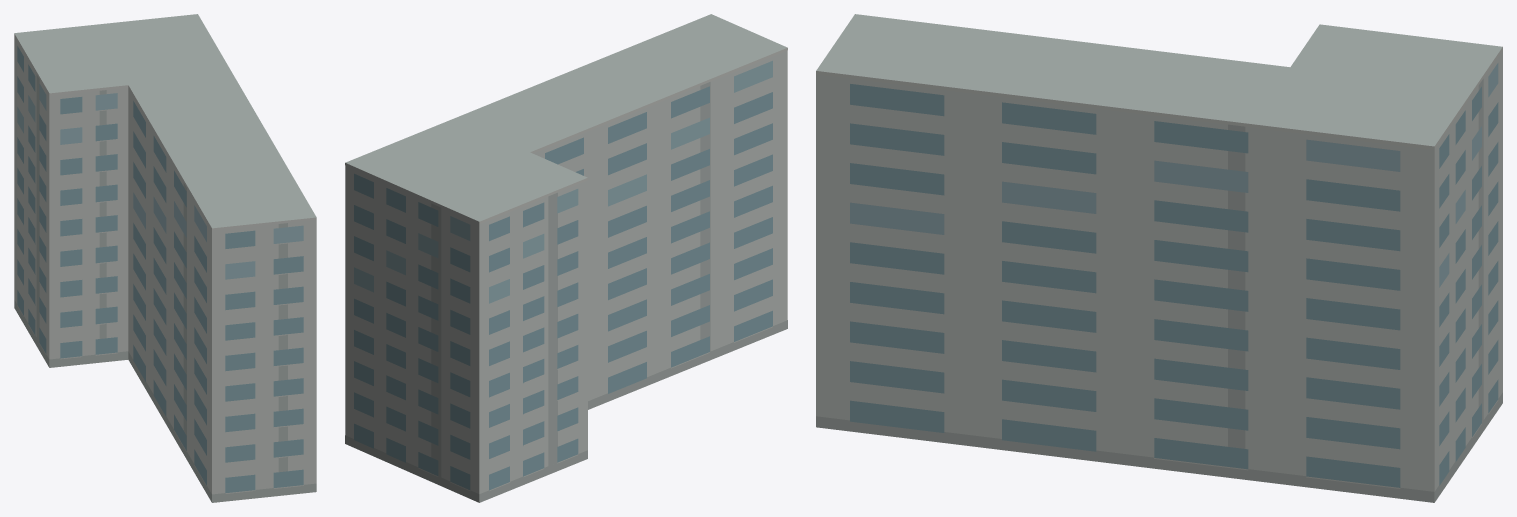
The model's file is residential-cdba598e-dc10-4383-96f3-6a5d5f99d2bc.glb.
The picture shows the model from 3 angles, left to right: view 1: azimuth 30°, elevation 25°; view 2: azimuth 150°, elevation 25°; view 3: azimuth 270°, elevation 25°; orthographic projection. The views are drawn at different scales.
Parts seen in each view (by area): view 1: residential-cdba598e-dc10-4383-96f3-6a5d5f99d2bc.tmp; view 2: residential-cdba598e-dc10-4383-96f3-6a5d5f99d2bc.tmp; view 3: residential-cdba598e-dc10-4383-96f3-6a5d5f99d2bc.tmp.
Part boxes in pixels (left/top/right/bottom): residential-cdba598e-dc10-4383-96f3-6a5d5f99d2bc.tmp: left=14, top=14, right=316, bottom=502; residential-cdba598e-dc10-4383-96f3-6a5d5f99d2bc.tmp: left=345, top=14, right=787, bottom=502; residential-cdba598e-dc10-4383-96f3-6a5d5f99d2bc.tmp: left=816, top=14, right=1502, bottom=502.
Size of the model in its own units: 20.73 by 26 by 45.41.
